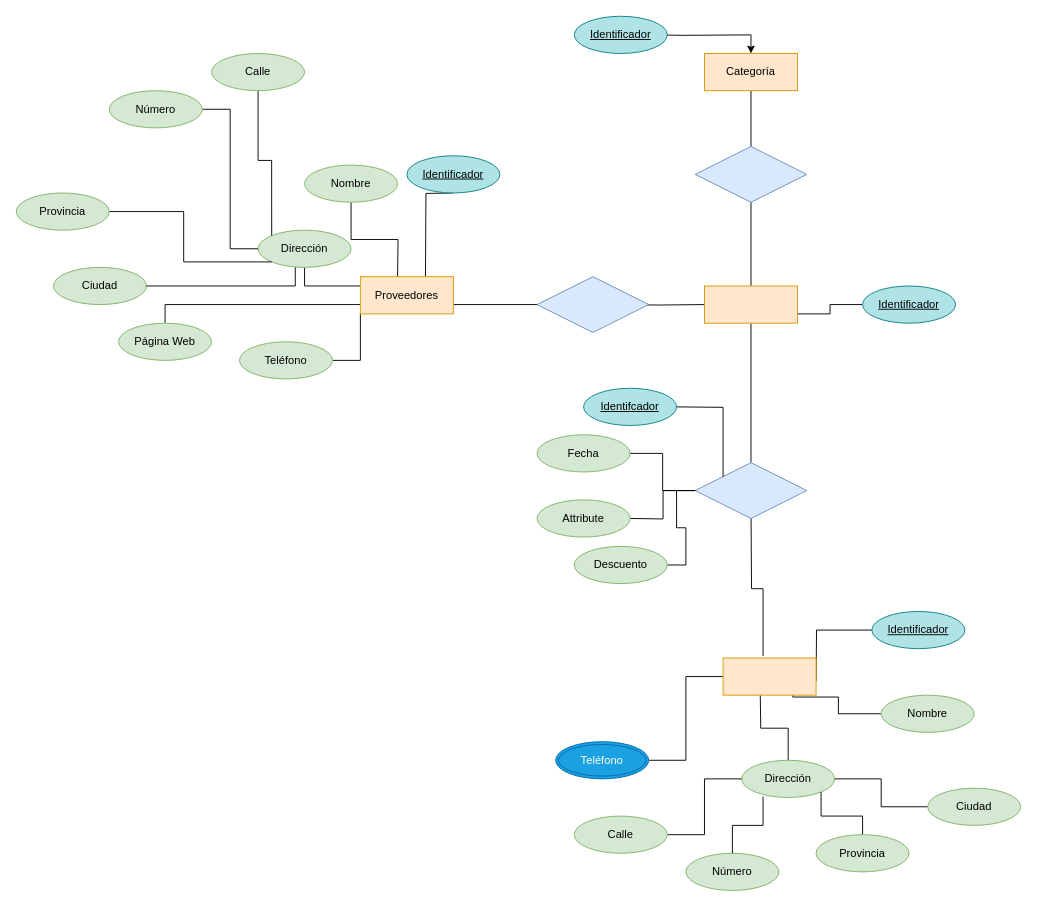
The diagram is 1037 pixels wide and 907 high, and some of its shapes have lost their labels. Here are the shapes that lost their labels. From the top down, the centre of each, then its label:
At point 750,174: "tiene".
At point 592,304: "distribuye".
At point 750,304: "Productos".
At point 750,490: "se vende".
At point 769,676: "Clientes".
